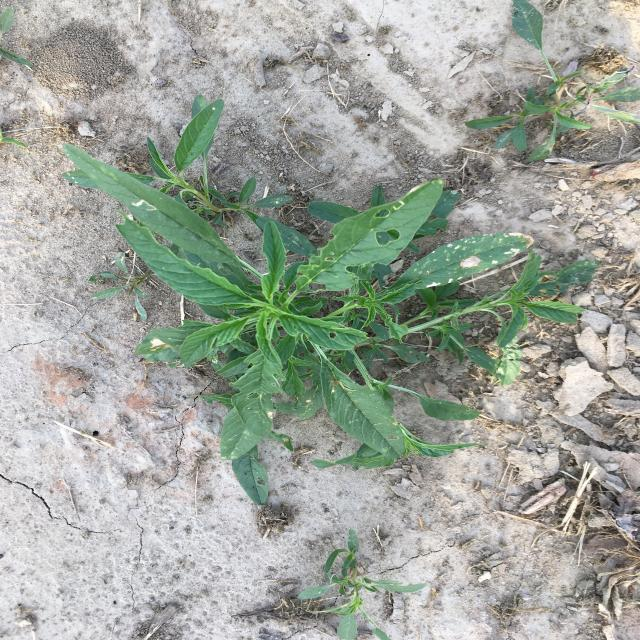Waterhemp: (60, 95, 602, 508), (464, 0, 639, 163), (296, 529, 427, 640)
